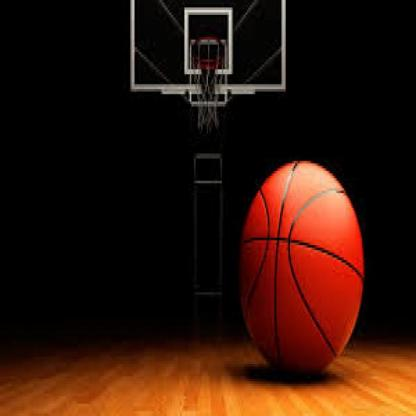basketball: (239, 158, 362, 376)
